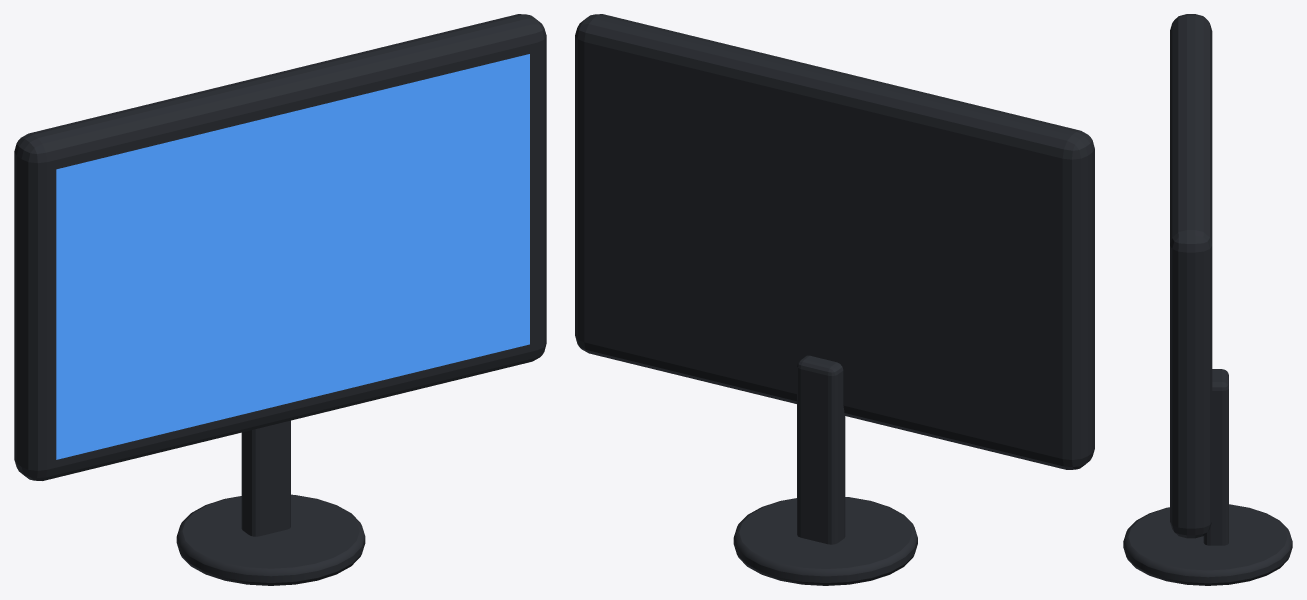
Rendered from obj_screen_pm.glb.
3 renders of one model, left to right at view 1: azimuth 30°, elevation 25°; view 2: azimuth 150°, elevation 25°; view 3: azimuth 270°, elevation 25°, orthographic. The views are drawn at different scales.
Parts seen in each view (by area): view 1: pm_display, pm_frame, pm_stand_base, pm_stand_neck; view 2: pm_frame, pm_stand_base, pm_stand_neck; view 3: pm_frame, pm_stand_base, pm_stand_neck.
Boxes of the visible parts, <box> form: pm_display: <box>56,54,529,459</box>; pm_frame: <box>14,14,546,480</box>; pm_stand_base: <box>176,494,365,585</box>; pm_stand_neck: <box>241,420,290,536</box>; pm_frame: <box>575,14,1094,469</box>; pm_stand_base: <box>733,497,917,585</box>; pm_stand_neck: <box>797,355,845,544</box>; pm_frame: <box>1170,14,1212,538</box>; pm_stand_base: <box>1123,504,1292,585</box>; pm_stand_neck: <box>1203,369,1228,545</box>.
Size of the model in its own units: 0.64 by 0.56 by 0.2.
